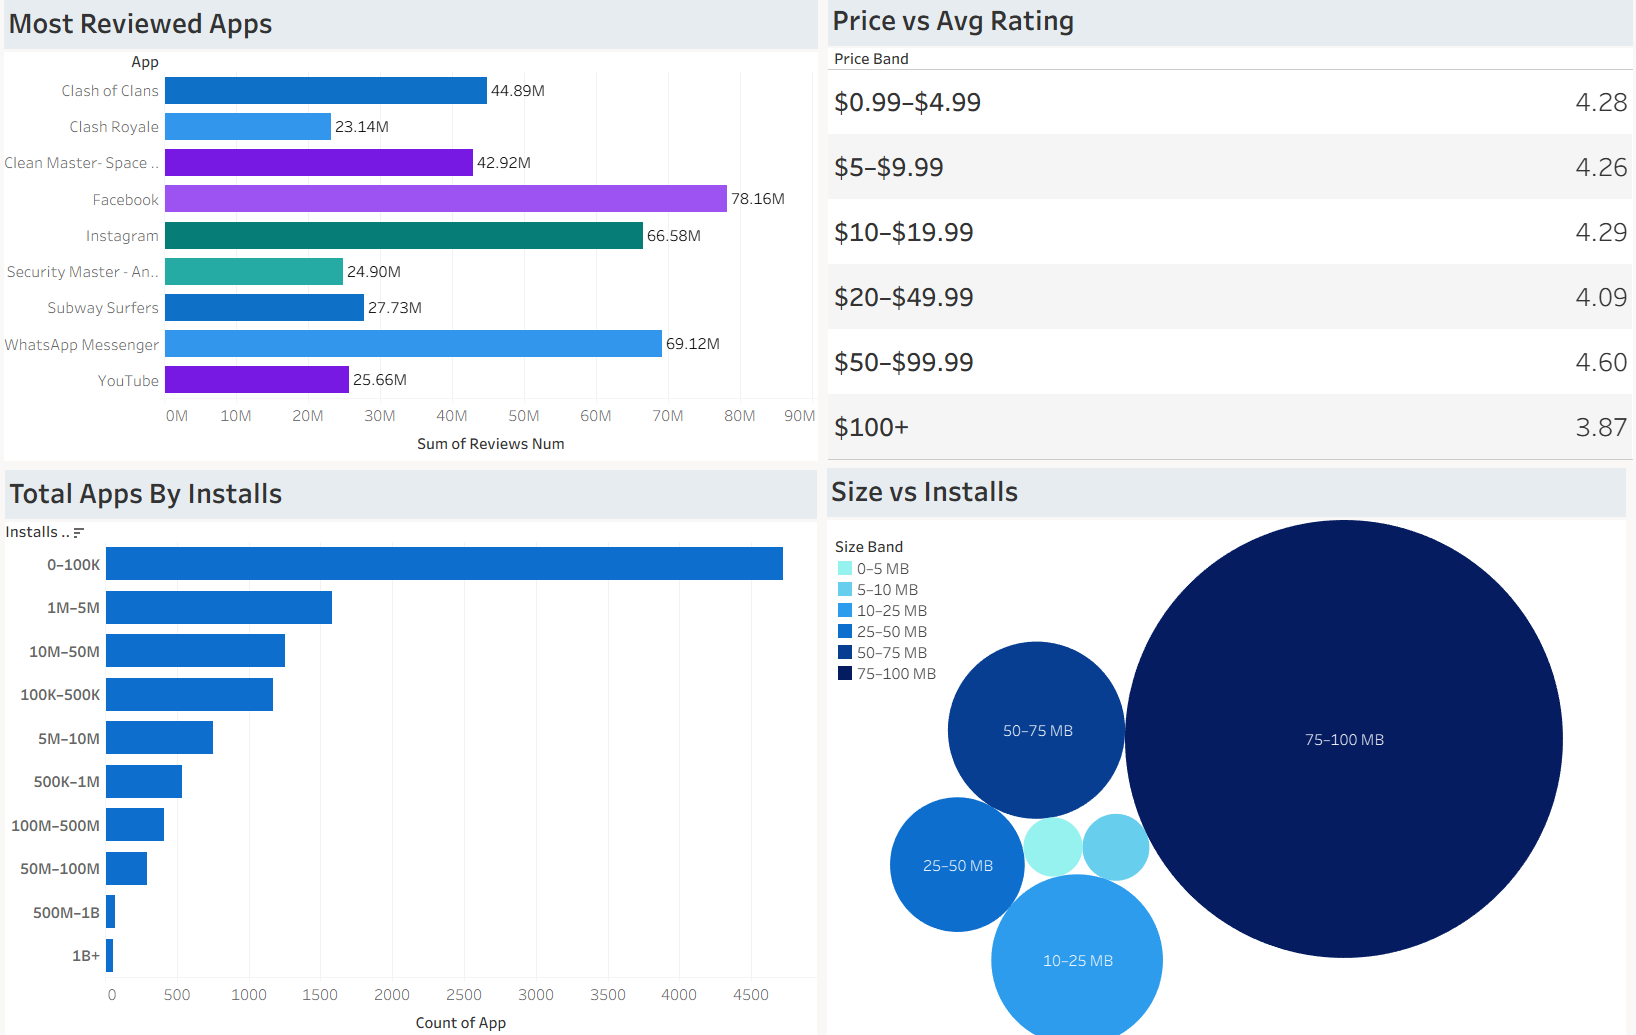

The dashboard page shown, as its layout file describes it:
{"tool":"tableau","page":{"name":"Dashboard 2","canvas":[1654,1169],"ordinal":1},"visuals":[{"type":"worksheet","title":"Price vs Avg Rating","mark":"Text","rows":["Calculation_1200442237239303"],"box":[835,7,805,463]},{"type":"worksheet","title":"Most Reviewed Apps","mark":"Automatic","rows":["App"],"cols":["Reviews_Num"],"box":[11,10,814,461]},{"type":"worksheet","title":"Size vs Installs","mark":"Circle","box":[834,478,799,578]},{"type":"worksheet","title":"Total Apps By Installs","mark":"Automatic","rows":["Calculation_1200442225623045"],"cols":["App"],"box":[12,480,812,570]},{"type":"legend","title":"Size vs Installs","param":"[federated.0gwnit21xouwcy1go0bhh0qgyihv].[none:Calculation_1200442242166792:nk]","box":[842,546,134,175]}]}

Visuals, with their boxes on the page's 1654x1169 design canvas (x1, y1, x2, y2). These are canvas units, not pixel positions in the 1636x1035 screenshot, which may show the page scaled, cropped or inside an application window:
"Price vs Avg Rating" worksheet (Text marks): <bbox>835, 7, 1640, 470</bbox>
"Most Reviewed Apps" worksheet: <bbox>11, 10, 825, 471</bbox>
"Size vs Installs" worksheet (Circle marks): <bbox>834, 478, 1633, 1056</bbox>
"Total Apps By Installs" worksheet: <bbox>12, 480, 824, 1050</bbox>
"Size vs Installs" legend: <bbox>842, 546, 976, 721</bbox>
